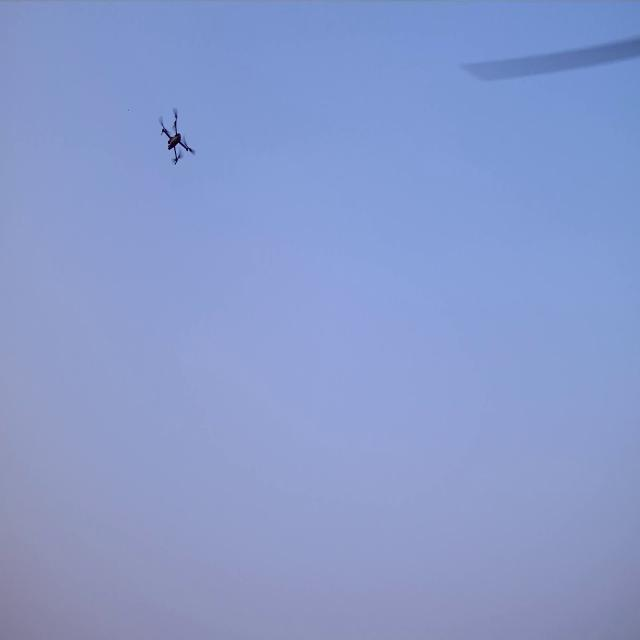UAV: (157, 105, 195, 166)
